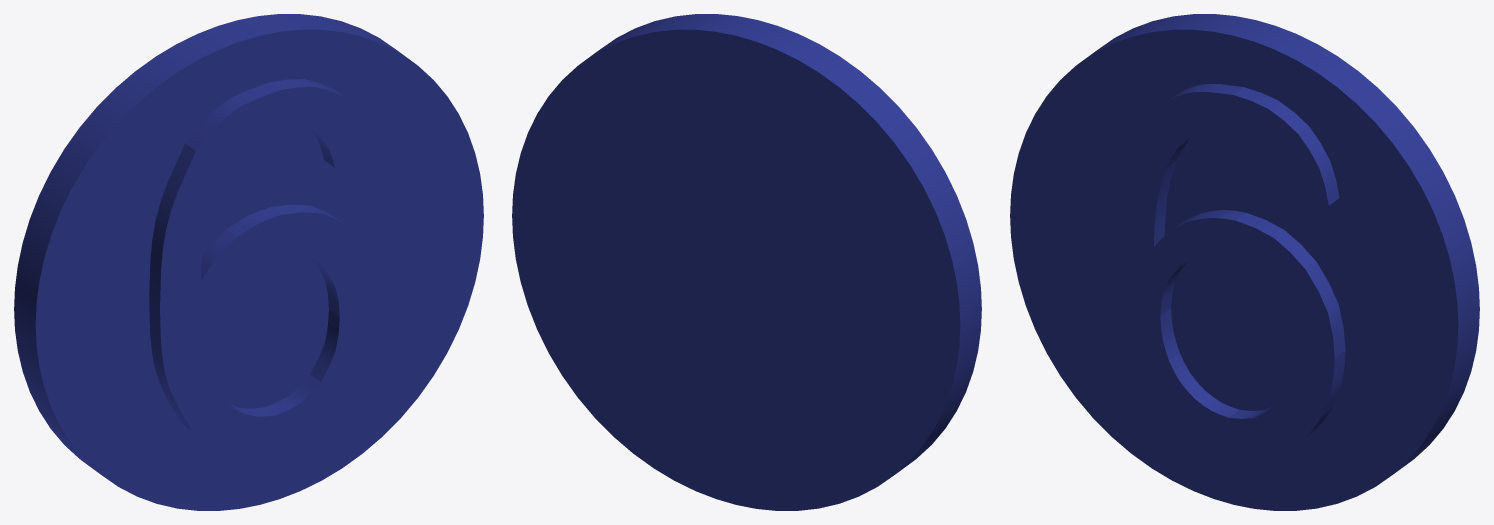
Rendered from disk6.fbx.
The picture shows the model from 3 angles, left to right: view 1: azimuth 30°, elevation 25°; view 2: azimuth 150°, elevation 25°; view 3: azimuth 330°, elevation 25°; orthographic projection.
Parts seen in each view (by area): view 1: Body1; view 2: Body1; view 3: Body1.
Part boxes in pixels (box(x1,y1,x2,y2)): Body1: box(14, 14, 483, 510); Body1: box(512, 14, 981, 510); Body1: box(1010, 14, 1479, 510).
Bounding box in the file's own units: 1200 × 1200 × 150.
